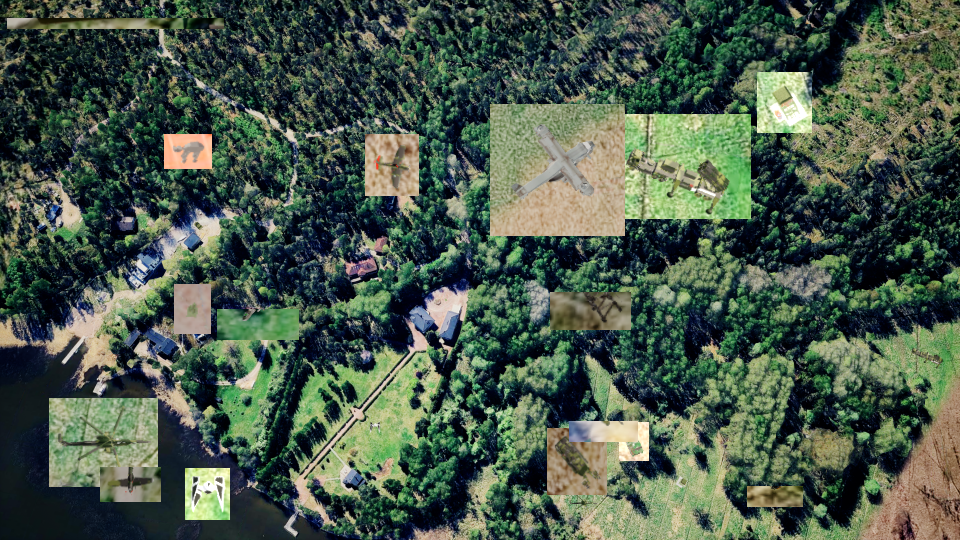condor: (490, 104, 625, 236)
hangar: (7, 18, 224, 29)
helicopter: (49, 398, 158, 487)
jammer: (619, 422, 649, 461)
jet_plane: (217, 309, 299, 340)
large_launcher: (615, 114, 751, 219)
large_tower: (550, 292, 631, 330)
medium_launcher: (747, 486, 803, 507)
medium_plane: (100, 467, 161, 502)
mine_roller: (547, 428, 607, 495)
small_launcher: (174, 284, 211, 334)
small_plane: (365, 134, 419, 196)
small_tower: (757, 72, 812, 133)
spacecraft: (185, 468, 230, 520)
ta-ta: (164, 134, 212, 169)
tank: (569, 421, 638, 442)
